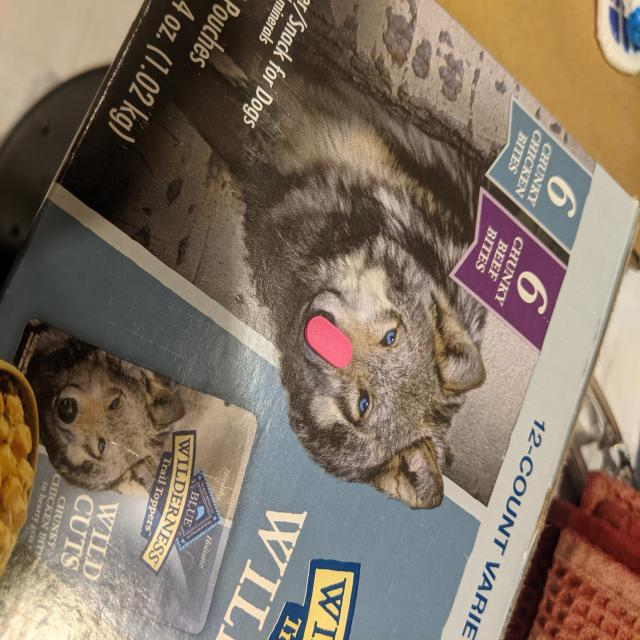non-organic waste: (304, 314, 354, 370)
